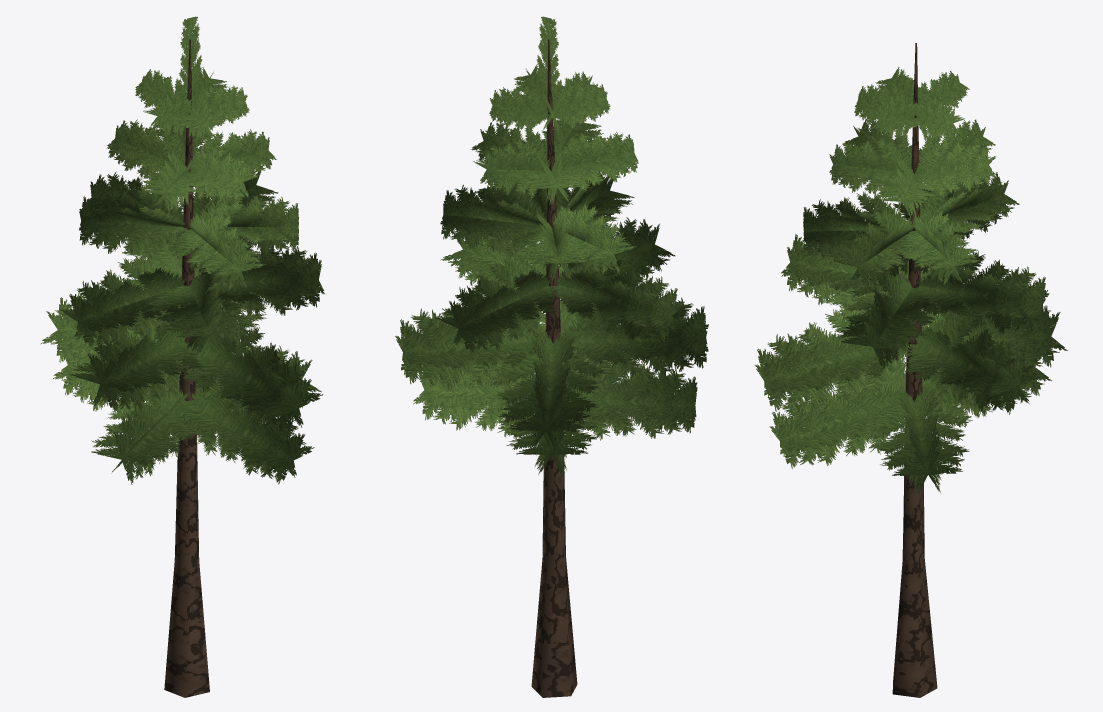
File: pine0_lod1.fbx
3 renders of one model, left to right at view 1: azimuth 30°, elevation 25°; view 2: azimuth 150°, elevation 25°; view 3: azimuth 270°, elevation 25°, orthographic.
Parts seen in each view (by area): view 1: pine0_lod1; view 2: pine0_lod1; view 3: pine0_lod1.
Boxes of the visible parts, left/top/right/bottom form: pine0_lod1: left=40, top=16, right=324, bottom=697; pine0_lod1: left=395, top=16, right=708, bottom=697; pine0_lod1: left=754, top=43, right=1067, bottom=697.
Bounding box in the file's own units: 7.23 × 15.68 × 7.36.
Materials: 2 (2 with a texture image).
